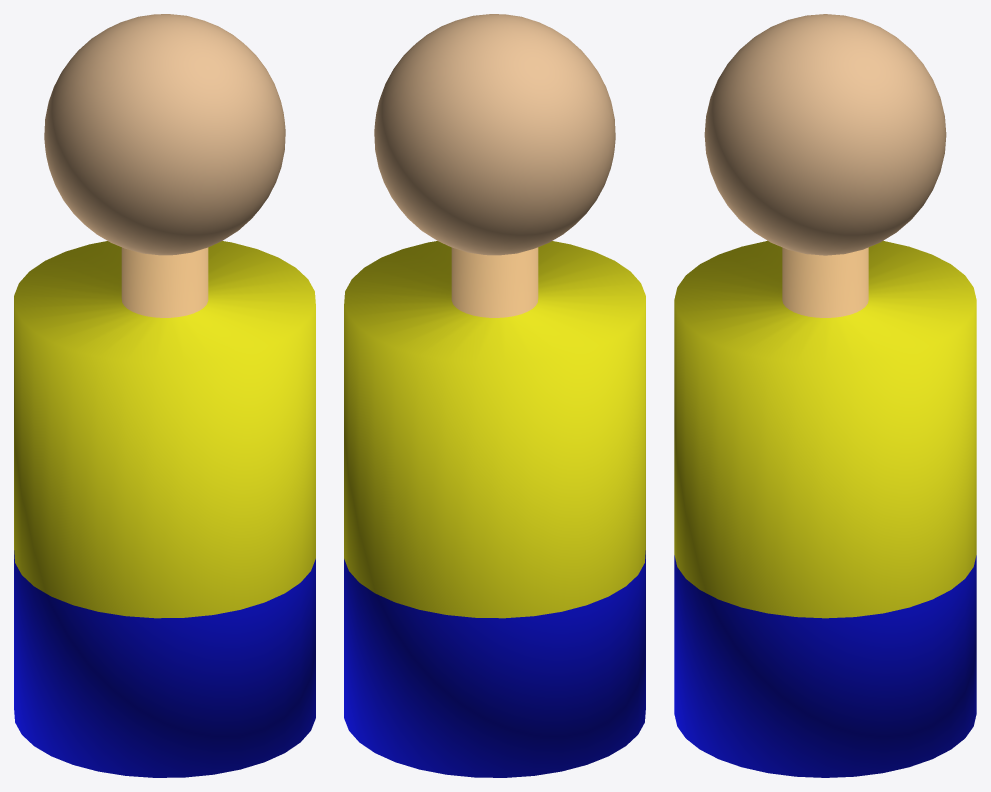
File: Character_10.fbx
3 renders of one model, left to right at view 1: azimuth 30°, elevation 25°; view 2: azimuth 150°, elevation 25°; view 3: azimuth 270°, elevation 25°, orthographic.
Parts seen in each view (by area): view 1: Circle.000, Icosphere; view 2: Circle.000, Icosphere; view 3: Circle.000, Icosphere.
Part boxes in pixels (left/top/right/bottom): Circle.000: left=14, top=241, right=315, bottom=777; Icosphere: left=44, top=14, right=285, bottom=255; Circle.000: left=344, top=241, right=645, bottom=777; Icosphere: left=374, top=14, right=615, bottom=255; Circle.000: left=674, top=240, right=976, bottom=777; Icosphere: left=704, top=14, right=946, bottom=255.
Bounding box in the file's own units: 200 × 503 × 200.
